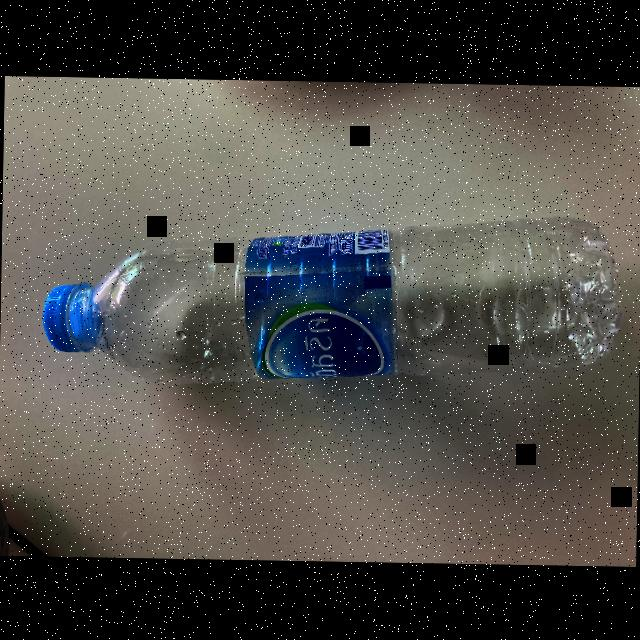plastic_bottle: (35, 198, 624, 396)
plastic_bottle_cap: (38, 278, 104, 352)
